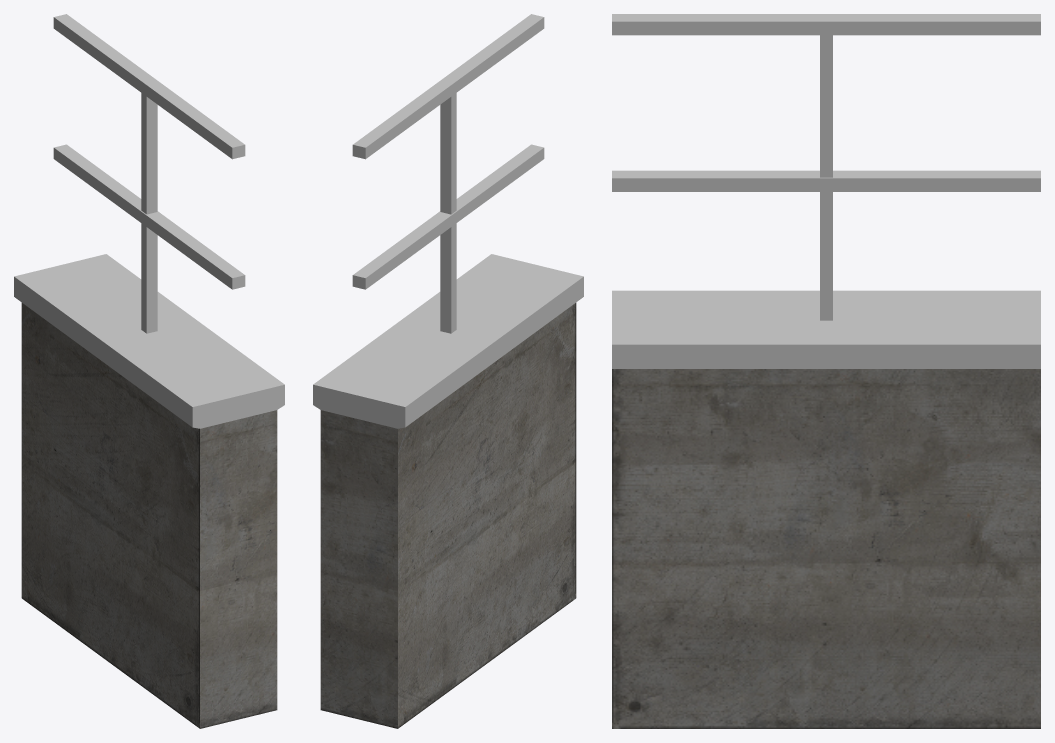
File: CP_Parapet_A_1m.fbx
3 views of the same model, side by side, from view 1: azimuth 30°, elevation 25°; view 2: azimuth 150°, elevation 25°; view 3: azimuth 270°, elevation 25° (orthographic). The views are drawn at different scales.
Parts seen in each view (by area): view 1: CP_Parapet_A_1m; view 2: CP_Parapet_A_1m; view 3: CP_Parapet_A_1m.
Boxes of the visible parts, x1,y1,x2,y2 form: CP_Parapet_A_1m: (14,14,284,728); CP_Parapet_A_1m: (313,14,583,728); CP_Parapet_A_1m: (612,14,1040,728).
Bounding box in the file's own units: 29.88 × 177 × 100.
